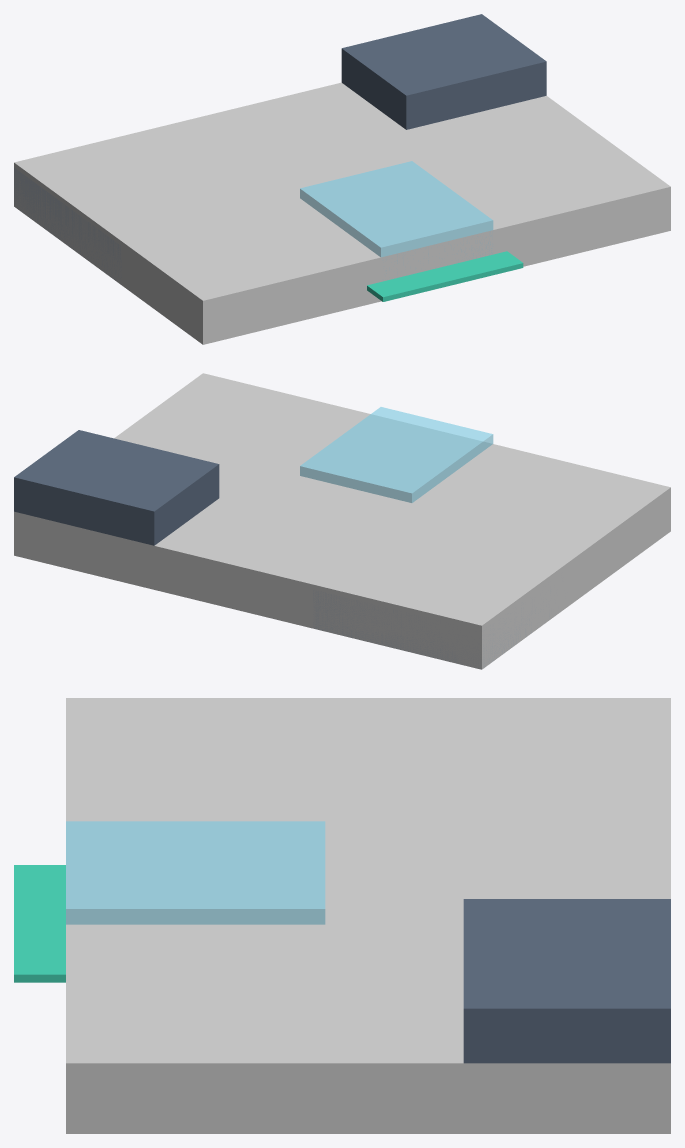
File: grand_mall_model.glb
The picture shows the model from 3 angles, top to bottom: view 1: azimuth 30°, elevation 25°; view 2: azimuth 150°, elevation 25°; view 3: azimuth 270°, elevation 25°; orthographic projection. The views are drawn at different scales.
Bounding box in the file's own units: 500 × 80 × 380.
